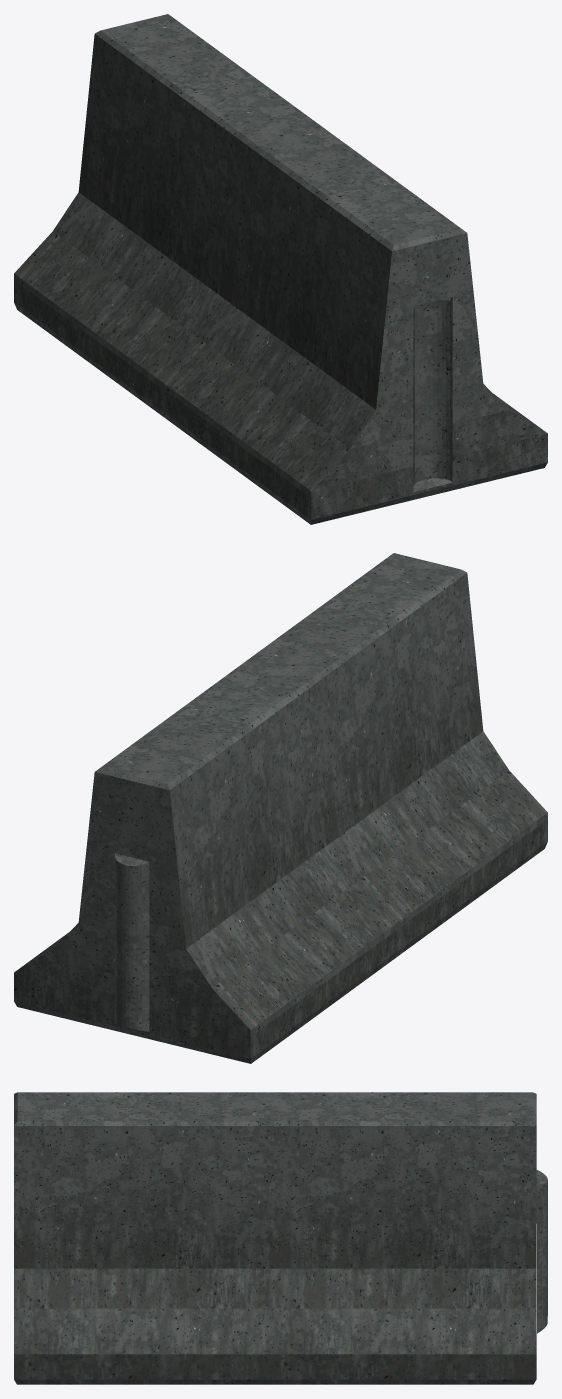
Rendered from roadblock.fbx.
The picture shows the model from 3 angles, top to bottom: view 1: azimuth 30°, elevation 25°; view 2: azimuth 150°, elevation 25°; view 3: azimuth 270°, elevation 25°; orthographic projection. The views are drawn at different scales.
Visible parts, largest first — view 1: Cube.001; view 2: Cube.001; view 3: Cube.001.
Part boxes in pixels (x1,y1,x2,y2): Cube.001: (14, 14, 547, 524); Cube.001: (14, 553, 547, 1063); Cube.001: (14, 1092, 547, 1384).
Size of the model in its own units: 200 by 209 by 445.
